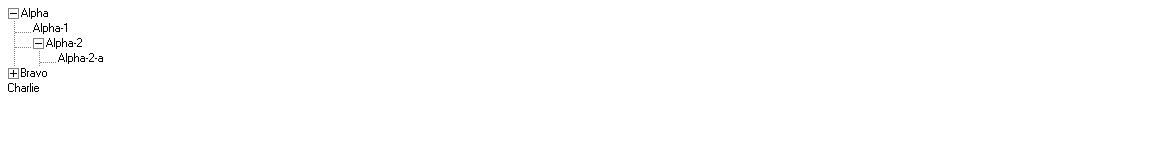
treeView › toggles a branch when its row is double-clicked
This screenshot has width=1152, height=160.
Step 1. Double-click the list item "Bravo" → (28, 73), box [8,67,48,79]
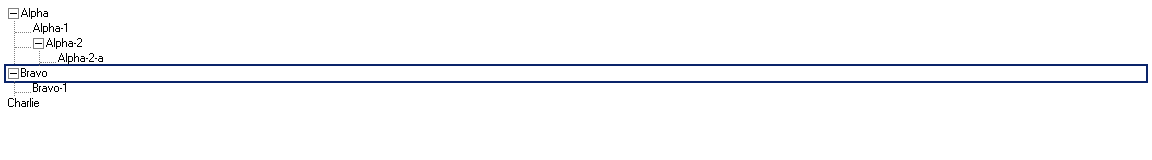
Expected: the list item "Bravo" is expanded, [6,66,1146,81]
